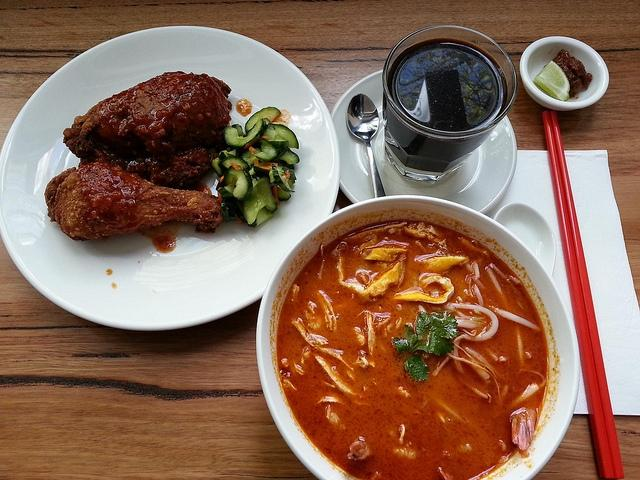lime: (533, 60, 570, 100)
